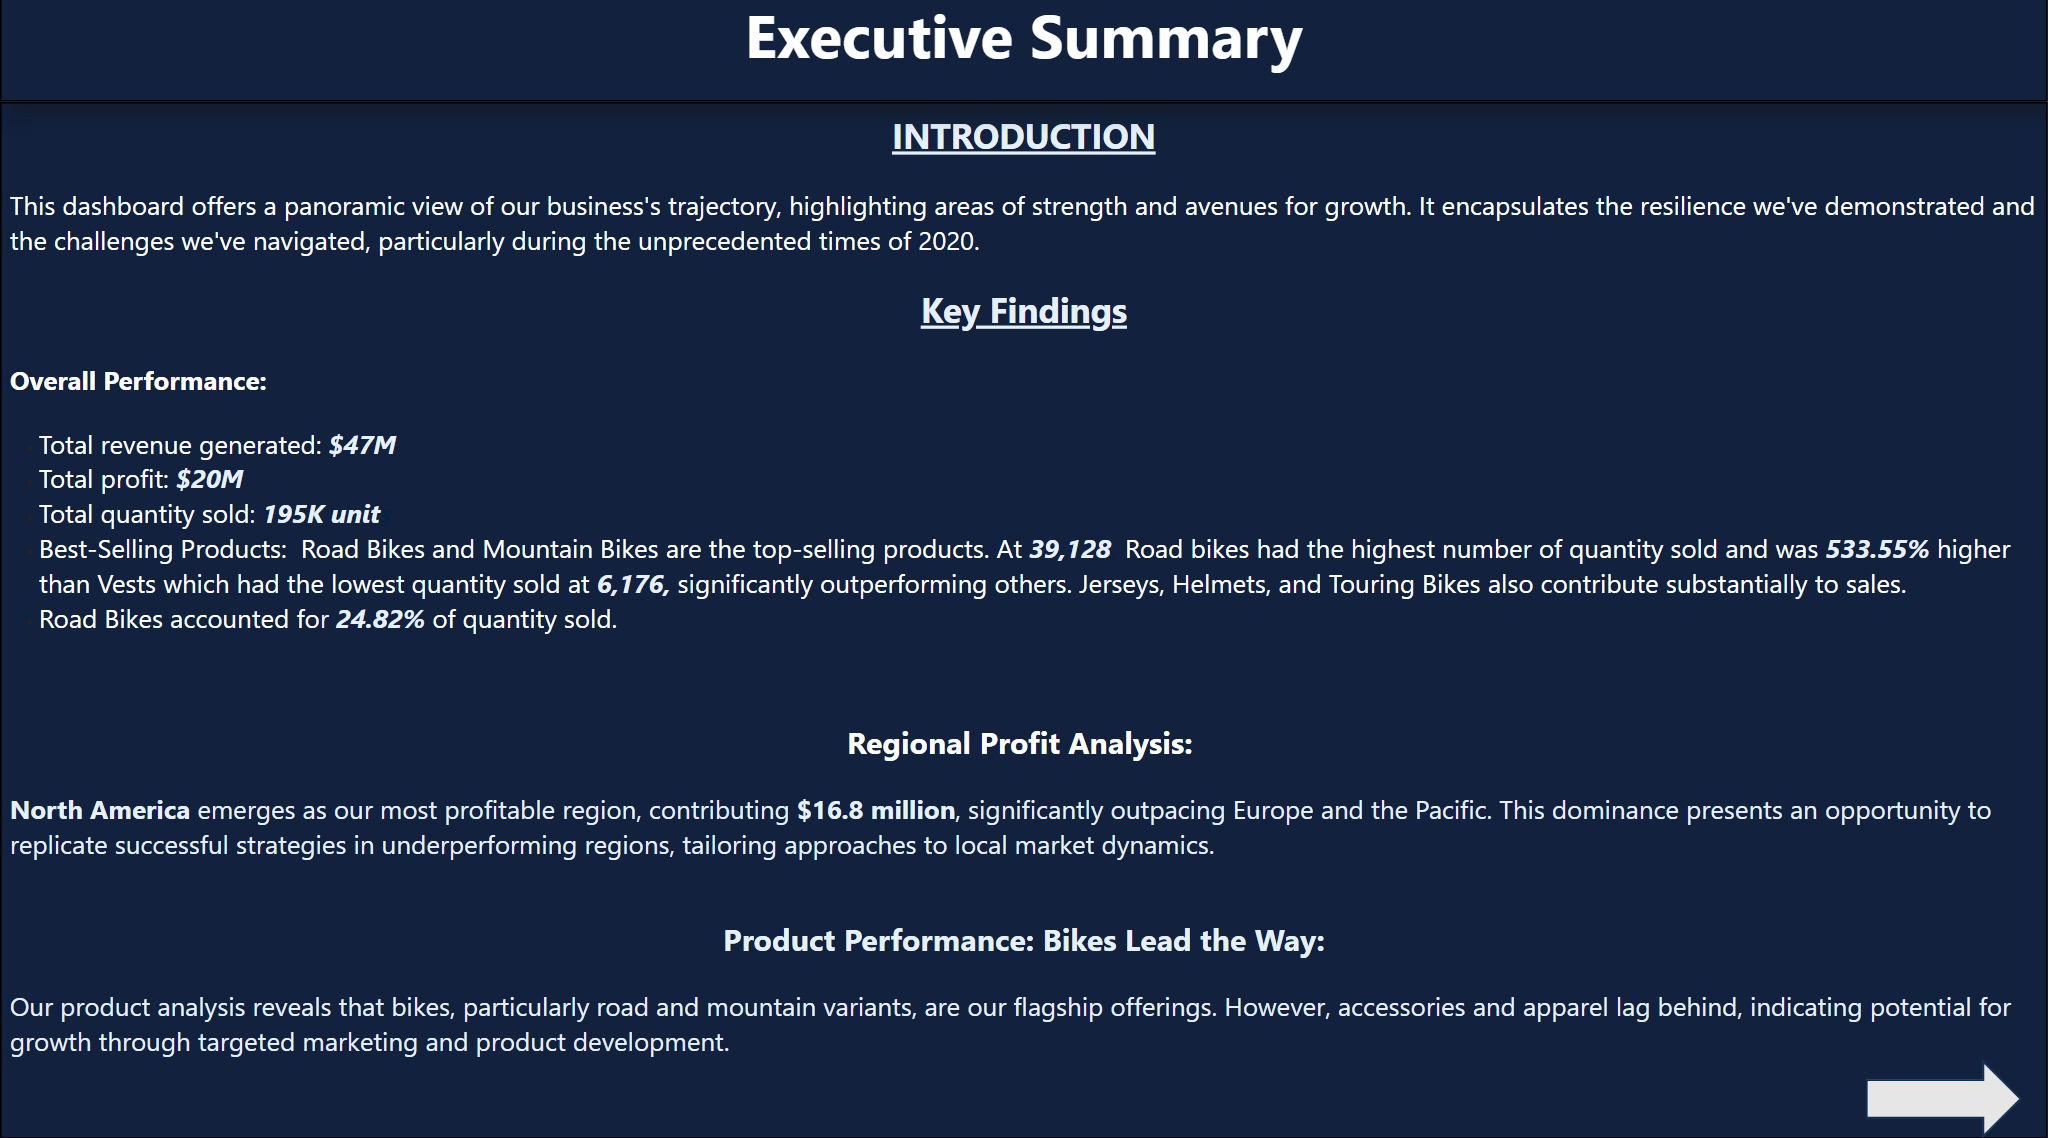

What the dashboard file says about the page in this screenshot:
{"tool":"powerbi","page":{"name":"Executive Summary","canvas":[1280,720],"ordinal":0},"visuals":[{"type":"textbox","box":[16,80,1264,640],"z":0},{"type":"textbox","box":[16,16,1264,64],"z":1000},{"type":"shape","box":[1168,672,96,48],"z":1001}]}

Visuals, with their boxes in screenshot pixels (x1, y1, x2, y2), scaled from the page's 1280x720 canvas onto the 2048x1138 screenshot:
textbox: (26,126,2047,1137)
textbox: (26,25,2047,126)
shape: (1869,1062,2022,1137)
